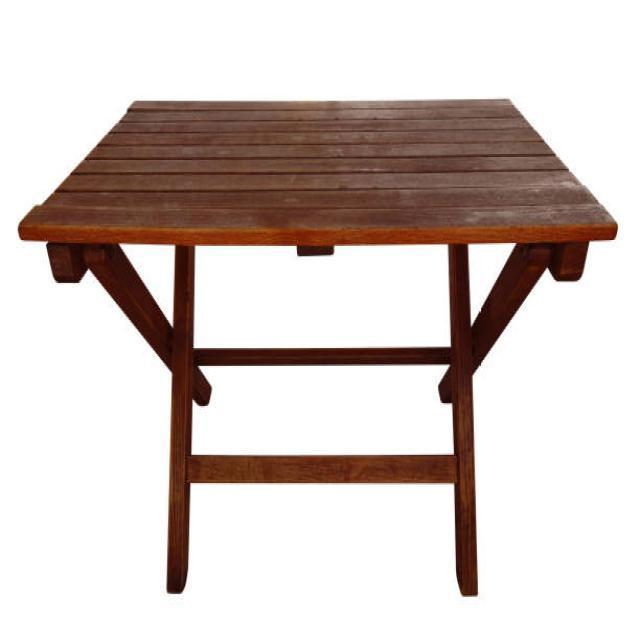table: (16, 96, 618, 597)
